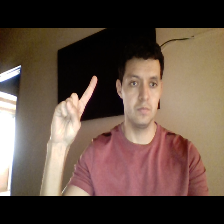2T: (47, 69, 102, 150)
